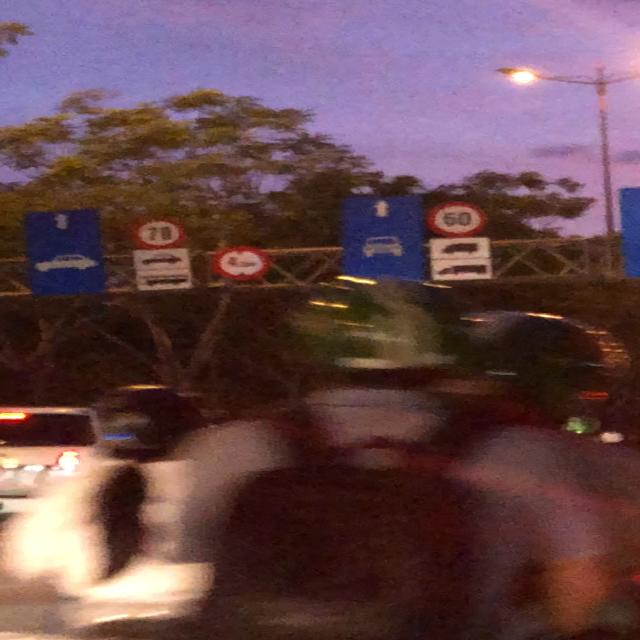Bien bao han che chieu cao: (205, 243, 274, 283)
Bien bao toc do toi da cho phep: (426, 199, 494, 242), (129, 215, 191, 255)
